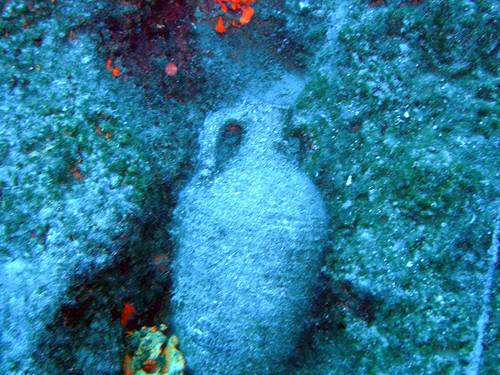amphora: (166, 90, 328, 375)
